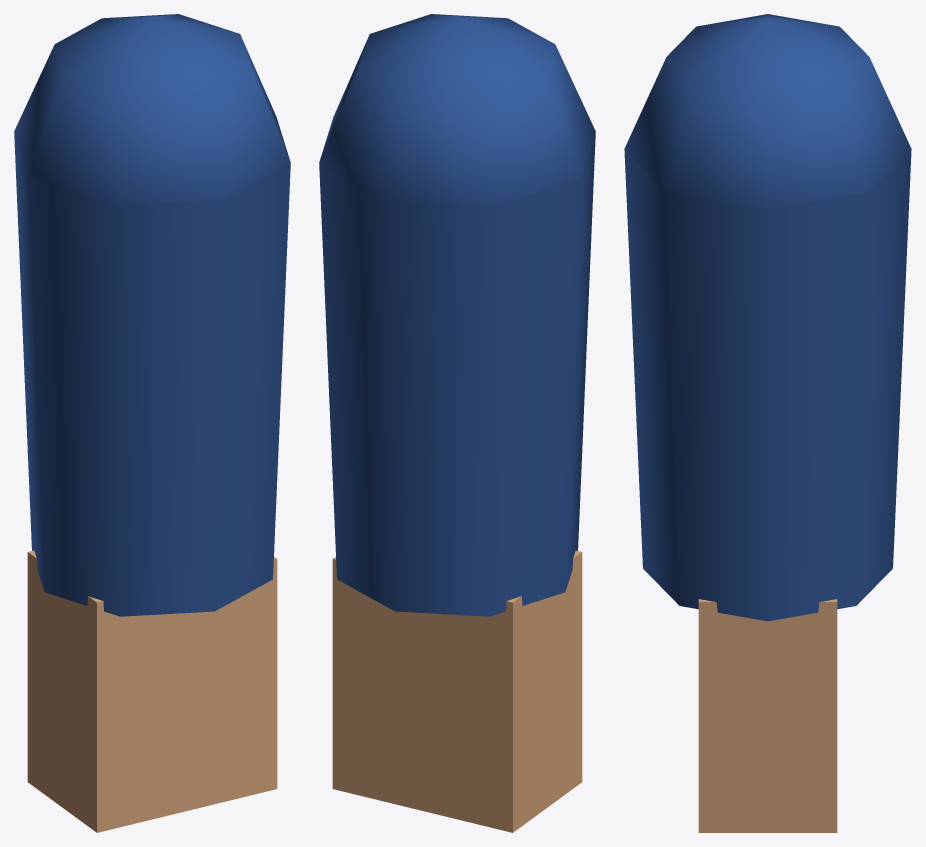
File: PCaminante_Antebrazo.obj
3 renders of one model, left to right at view 1: azimuth 30°, elevation 25°; view 2: azimuth 150°, elevation 25°; view 3: azimuth 270°, elevation 25°, orthographic.
Parts seen in each view (by area): view 1: Antebrazo; view 2: Antebrazo; view 3: Antebrazo.
Part boxes in pixels (x1,y1,x2,y2): Antebrazo: [14, 14, 290, 832]; Antebrazo: [319, 14, 595, 832]; Antebrazo: [624, 14, 911, 832].
Bounding box in the file's own units: 0.062 × 0.1835 × 0.062.
1 material, 1 textured.
